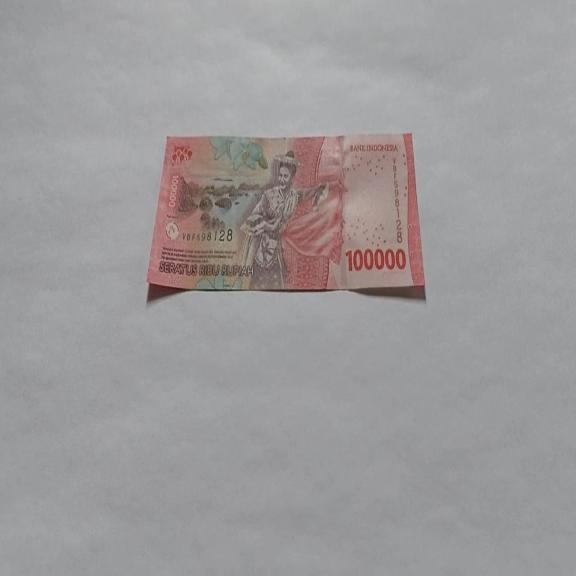Kertas: (146, 131, 426, 302), (344, 246, 406, 272)
